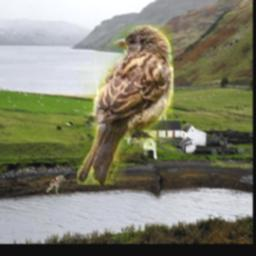Sparrow: (76, 24, 172, 185), (45, 176, 66, 197)
